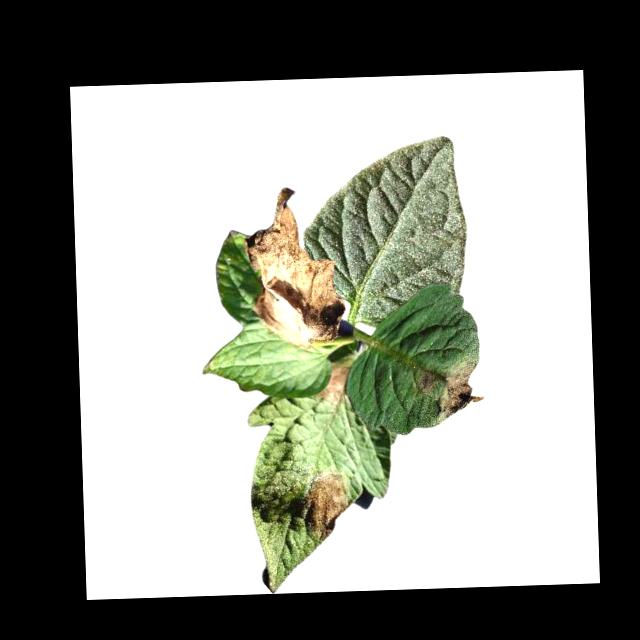Late_blight: (243, 184, 345, 352), (297, 467, 352, 541), (433, 355, 483, 424), (312, 359, 353, 406), (414, 369, 434, 394)
healthy: (299, 135, 469, 328)
